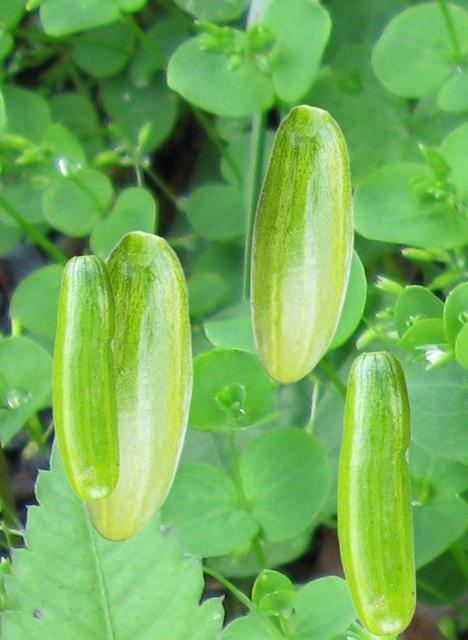cucumber: (80, 230, 192, 541), (249, 104, 353, 383), (337, 350, 415, 636), (52, 254, 119, 501)
